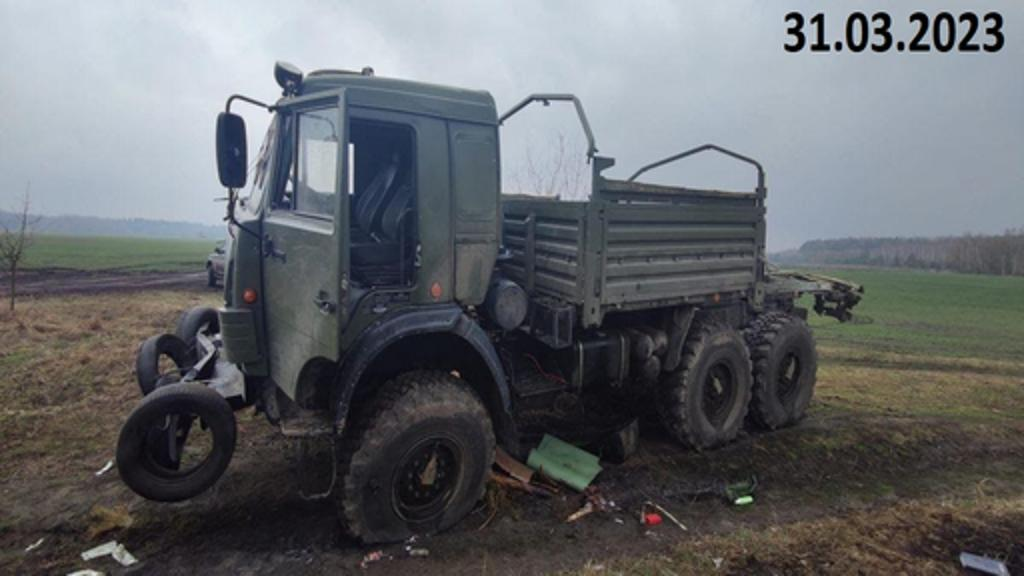TRUCK: (198, 52, 860, 526)
